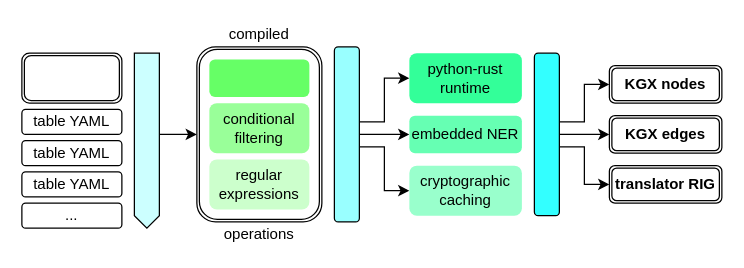
The diagram is 744 pixels wide and 268 high, and some of its shapes have lost their labels. The box of each missing label's shape, as (x1, y1, x2, y2) in pixels:
aggregation: (533, 52, 559, 216)
graph YAML: (21, 52, 122, 103)
lazy optimization: (333, 46, 359, 222)
table reading: (209, 59, 309, 96)
validation and coercion: (133, 52, 159, 228)
